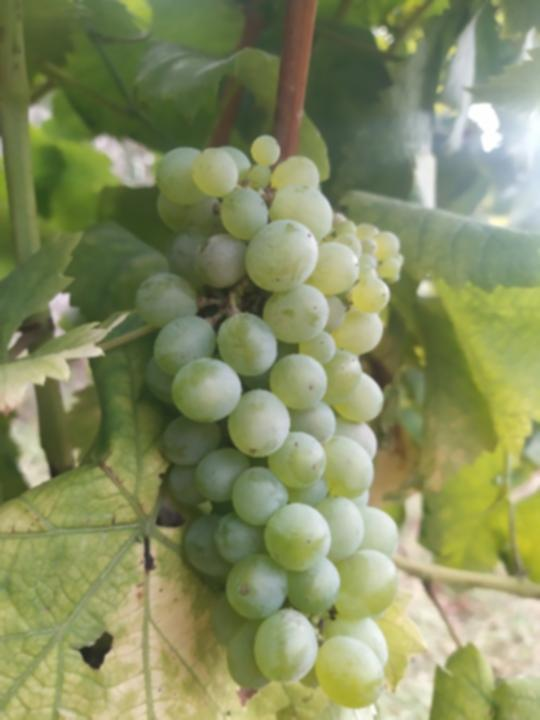grape: (133, 132, 408, 711)
